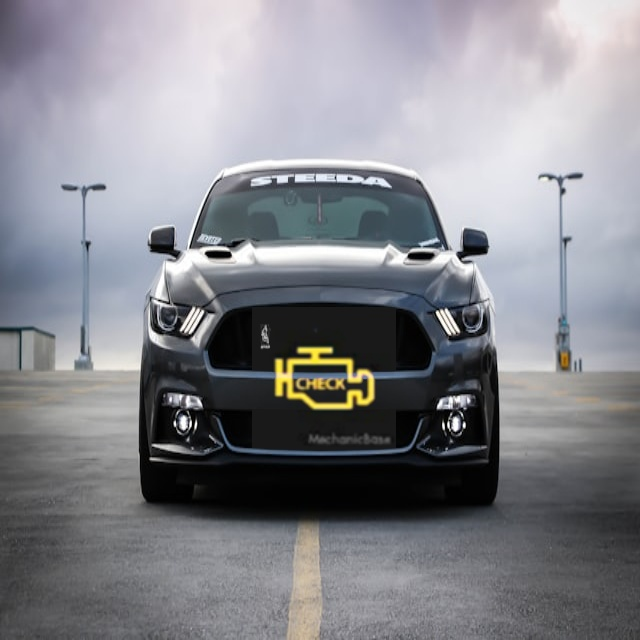symbol: (252, 307, 396, 451)
